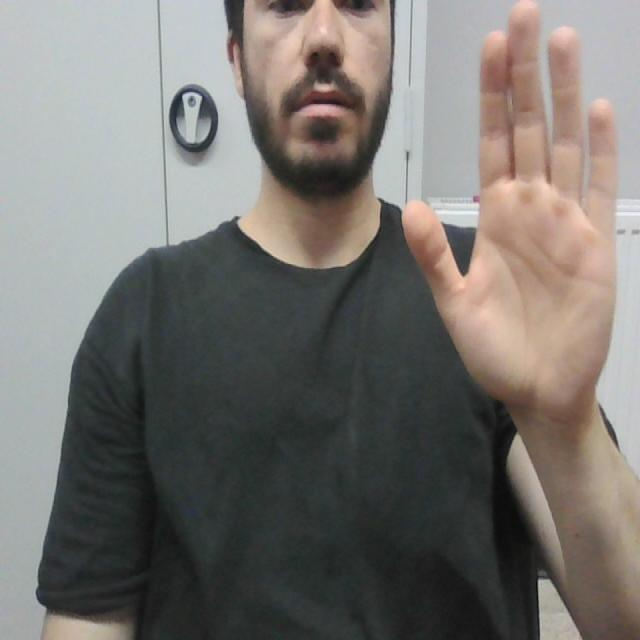Dur: (411, 2, 622, 412)
